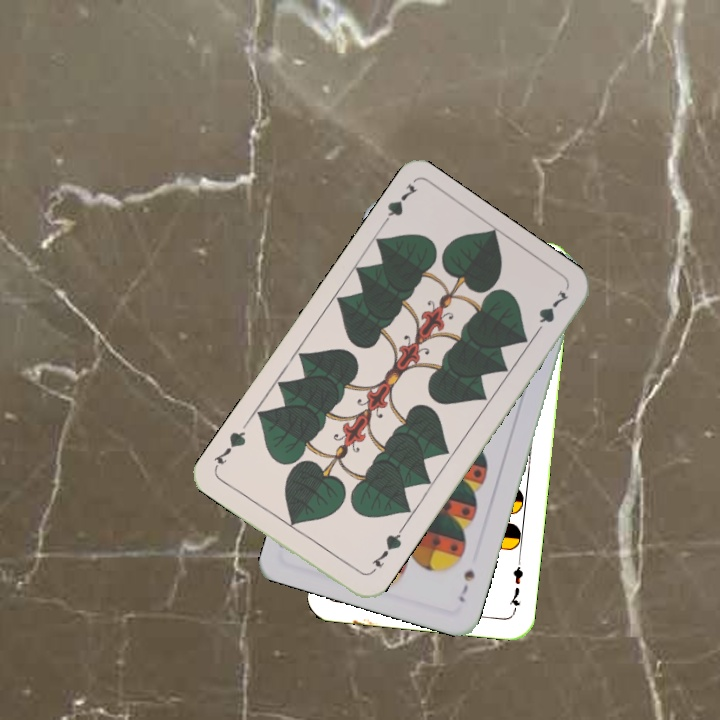E7: (505, 555, 525, 615)
G7: (375, 179, 421, 231), (364, 526, 405, 577)
S7: (455, 566, 478, 605)
